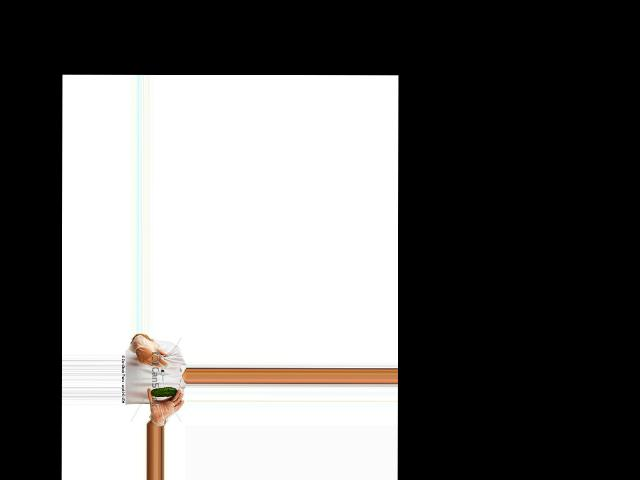cucumber: (150, 387, 177, 397)
